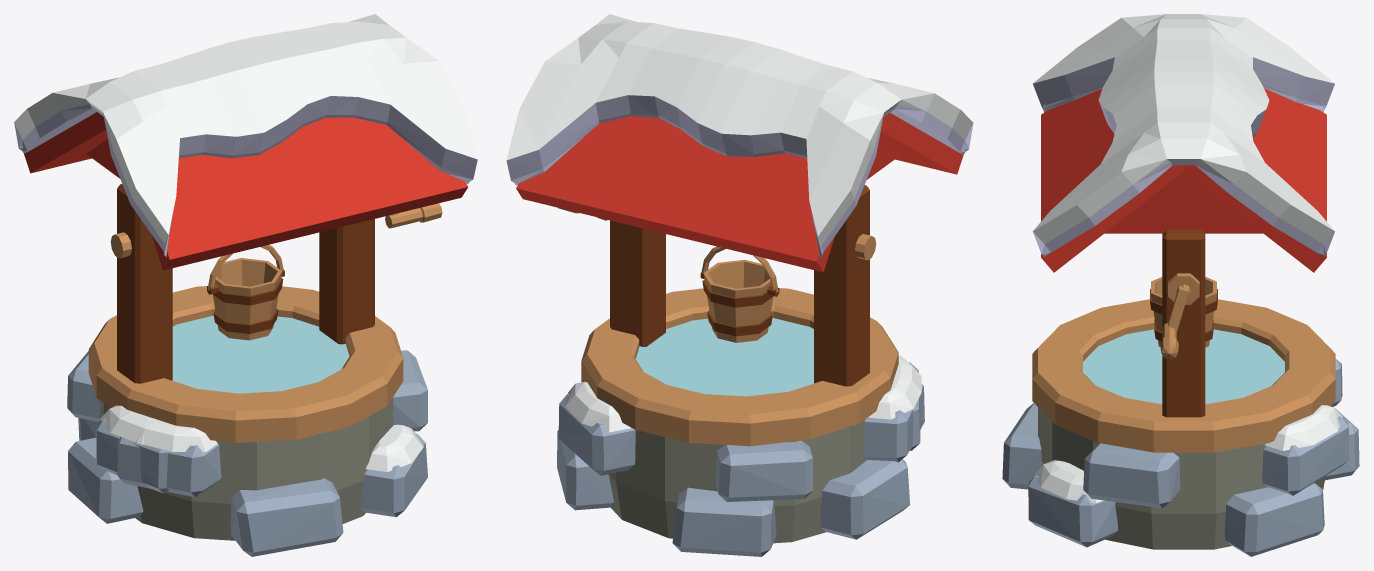
The model's file is Well.fbx.
The picture shows the model from 3 angles, left to right: view 1: azimuth 30°, elevation 25°; view 2: azimuth 150°, elevation 25°; view 3: azimuth 270°, elevation 25°; orthographic projection. The views are drawn at different scales.
Visible parts, largest first — view 1: Well_Body; view 2: Well_Body; view 3: Well_Body.
Boxes of the visible parts, x1=… form: Well_Body: x1=14, y1=14, x2=477, y2=556; Well_Body: x1=506, y1=14, x2=973, y2=556; Well_Body: x1=1002, y1=14, x2=1359, y2=556.
Bounding box in the file's own units: 2.79 × 3.24 × 2.5.
1 material, 1 textured.
